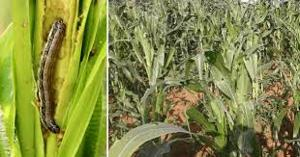fallarmy_worm: (33, 16, 71, 138)
